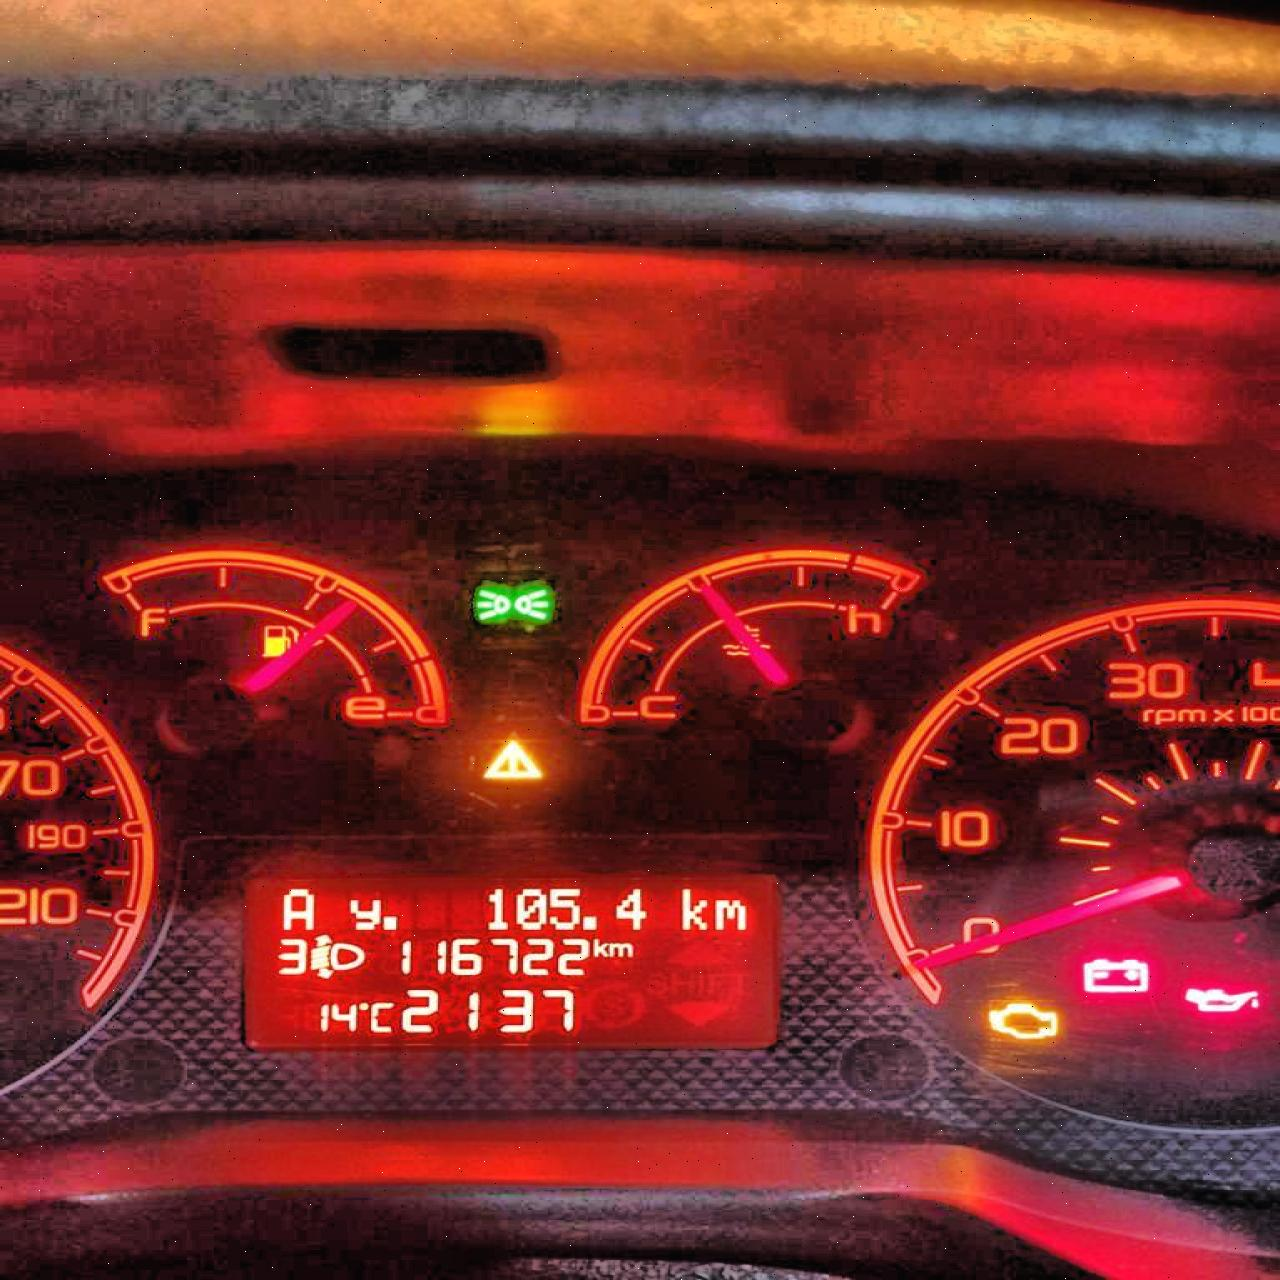-: (380, 912, 400, 932), (580, 913, 598, 933)
0: (513, 886, 549, 928)
1: (482, 884, 506, 930), (428, 938, 451, 979), (394, 937, 417, 976), (463, 987, 482, 1032), (312, 999, 331, 1035)
2: (397, 986, 440, 1034), (519, 937, 553, 975), (557, 938, 590, 975)
3: (498, 988, 536, 1033), (274, 938, 308, 975)
4: (608, 886, 652, 930), (327, 1000, 355, 1036)
5: (546, 885, 581, 930)
6: (449, 935, 483, 975)
7: (540, 983, 576, 1033), (486, 935, 519, 973)
X: (275, 885, 319, 931), (715, 885, 753, 933), (675, 885, 712, 933), (368, 999, 401, 1035), (346, 897, 380, 927), (590, 938, 610, 960), (608, 940, 633, 958)
odometer: (239, 866, 795, 1057)
